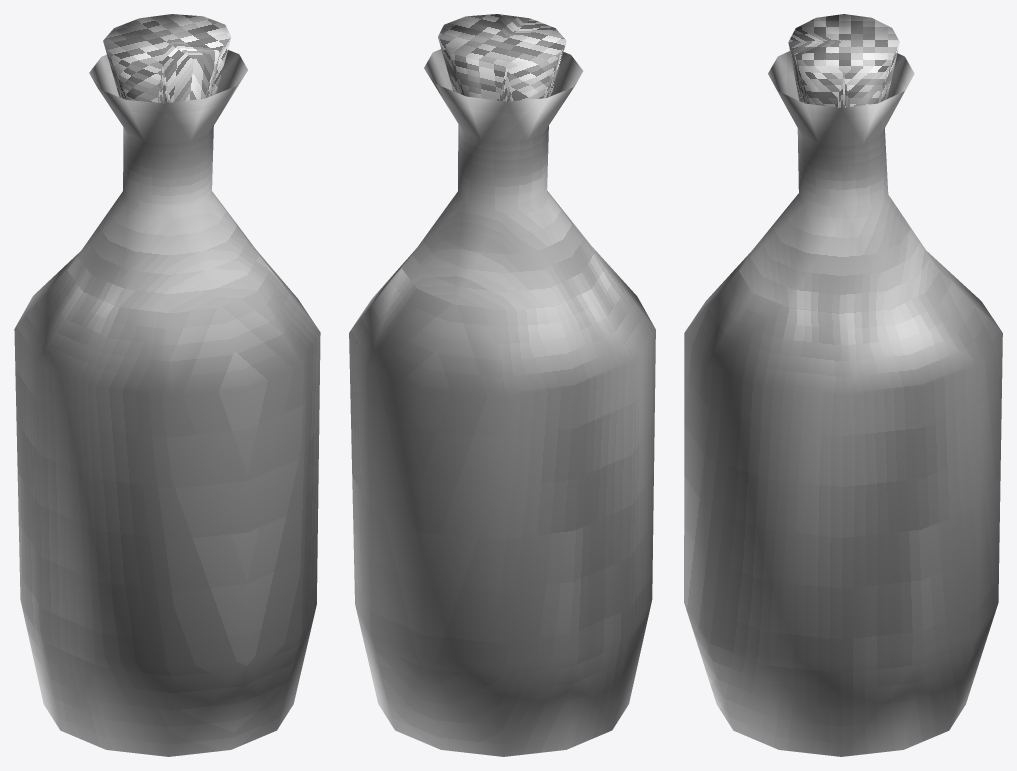
The model's file is wine.obj.
3 views of the same model, side by side, from view 1: azimuth 30°, elevation 25°; view 2: azimuth 150°, elevation 25°; view 3: azimuth 270°, elevation 25° (orthographic).
Parts seen in each view (by area): view 1: Cylinder01, Duplicate01, Cylinder02; view 2: Cylinder01, Duplicate01, Cylinder02; view 3: Cylinder01, Duplicate01, Cylinder02.
Boxes of the visible parts, x1,y1,x2,y2 form: Cylinder01: [14, 251, 320, 756]; Duplicate01: [67, 50, 269, 312]; Cylinder02: [103, 14, 231, 103]; Cylinder01: [349, 247, 655, 756]; Duplicate01: [402, 49, 604, 309]; Cylinder02: [438, 14, 566, 101]; Cylinder01: [684, 251, 1002, 756]; Duplicate01: [739, 51, 939, 313]; Cylinder02: [788, 14, 899, 107].
Size of the model in its own units: 12.96 by 31.5 by 13.75.
